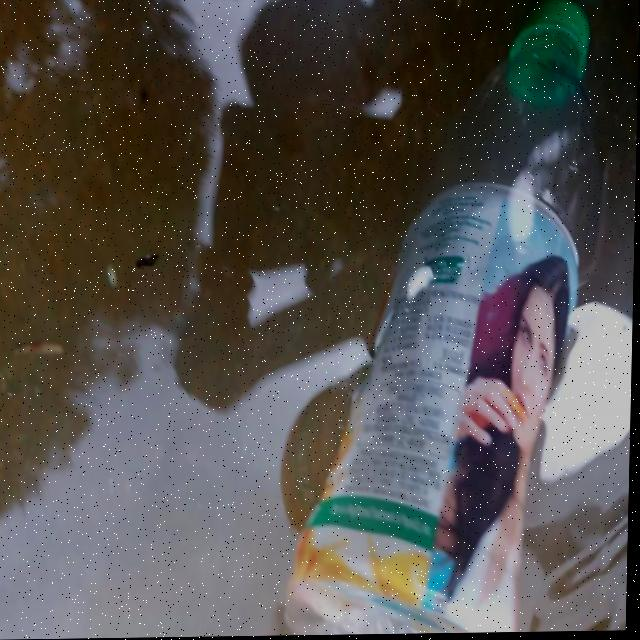waterbottle: (291, 0, 640, 636)
